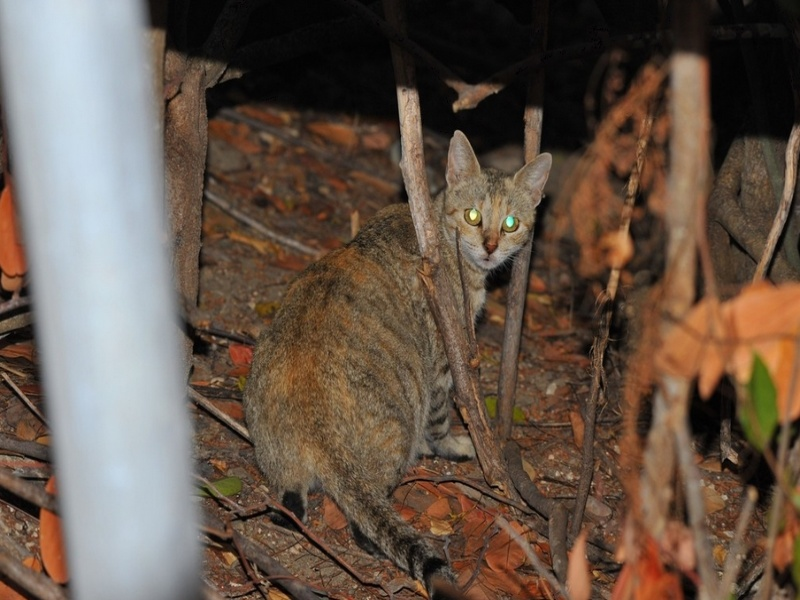cat: (243, 123, 568, 589)
